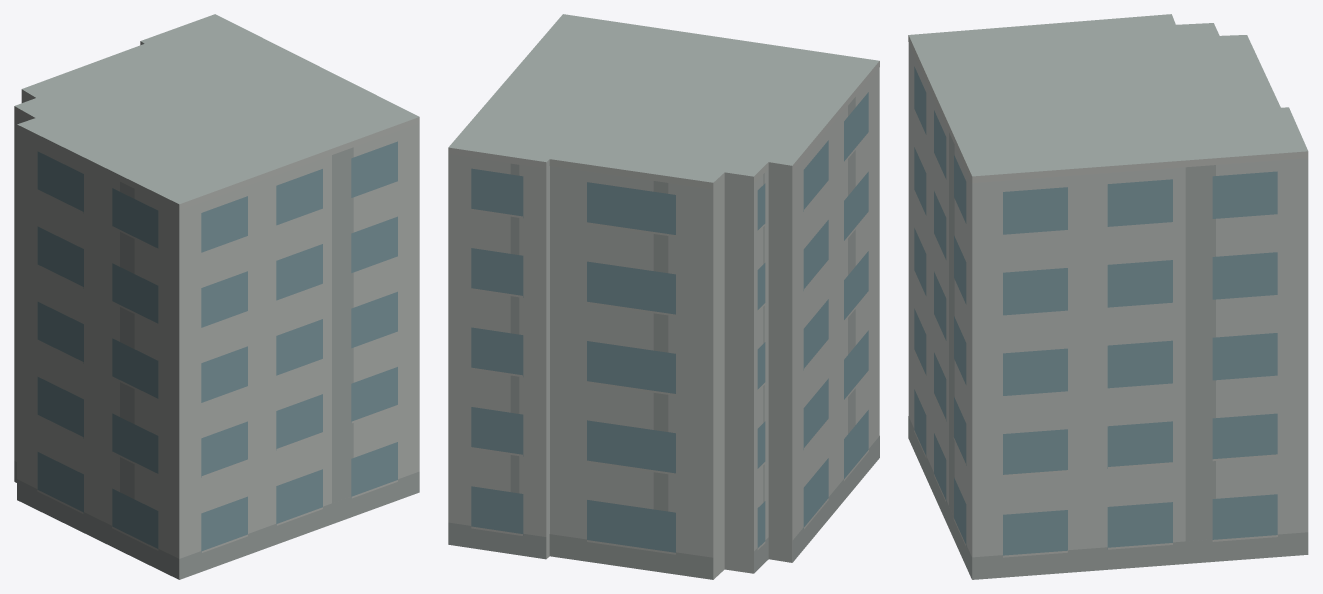
Rendered from survey-upis-32894590.glb.
3 renders of one model, left to right at view 1: azimuth 30°, elevation 25°; view 2: azimuth 150°, elevation 25°; view 3: azimuth 270°, elevation 25°, orthographic. The views are drawn at different scales.
Parts seen in each view (by area): view 1: survey-upis-32894590.tmp; view 2: survey-upis-32894590.tmp; view 3: survey-upis-32894590.tmp.
Boxes of the visible parts, x1=… form: survey-upis-32894590.tmp: x1=14, y1=14, x2=419, y2=579; survey-upis-32894590.tmp: x1=448, y1=14, x2=879, y2=579; survey-upis-32894590.tmp: x1=908, y1=14, x2=1308, y2=579.
Bounding box in the file's own units: 12.44 × 14.4 × 12.94.
